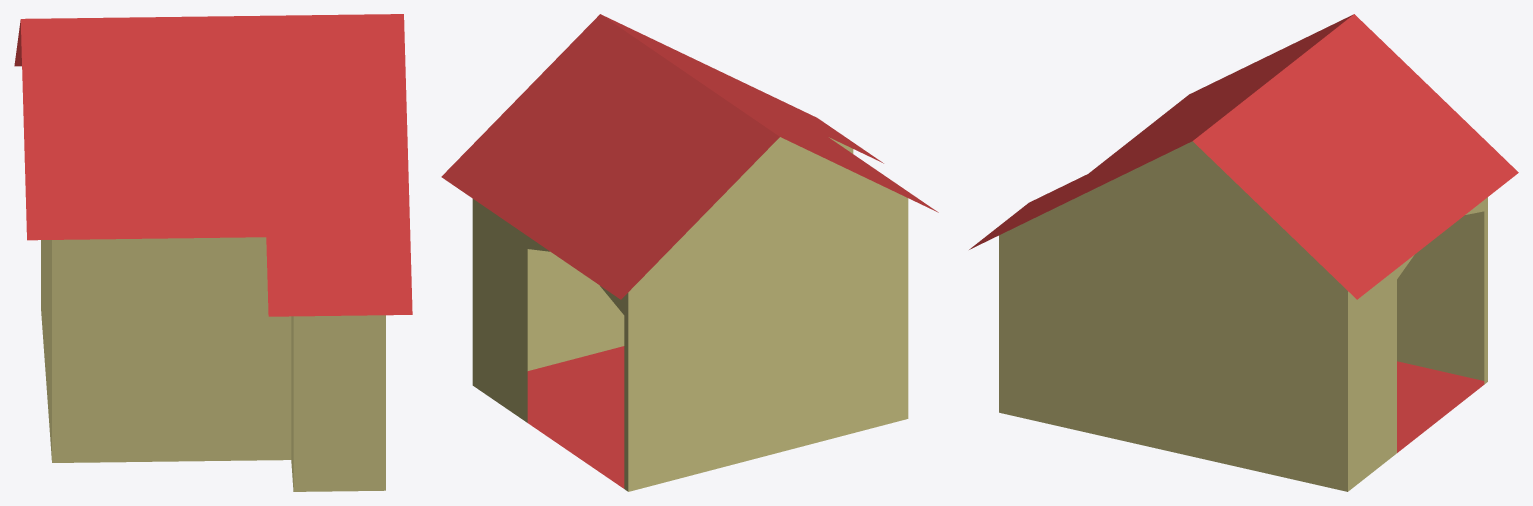
3 renders of one model, left to right at view 1: azimuth 30°, elevation 25°; view 2: azimuth 150°, elevation 25°; view 3: azimuth 270°, elevation 25°, orthographic. The views are drawn at different scales.
Size of the model in its own units: 15.65 by 18.02 by 11.79.
